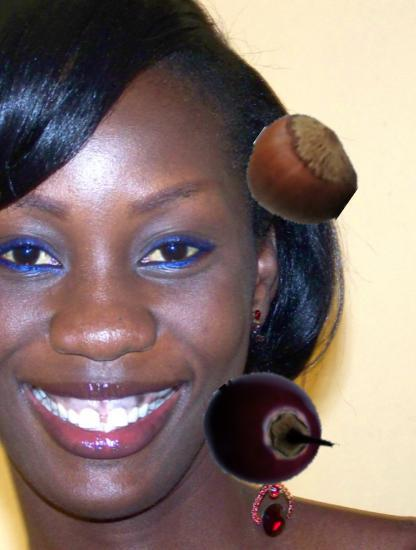Nut: (246, 115, 358, 227)
Tamarillo: (203, 370, 323, 490)
